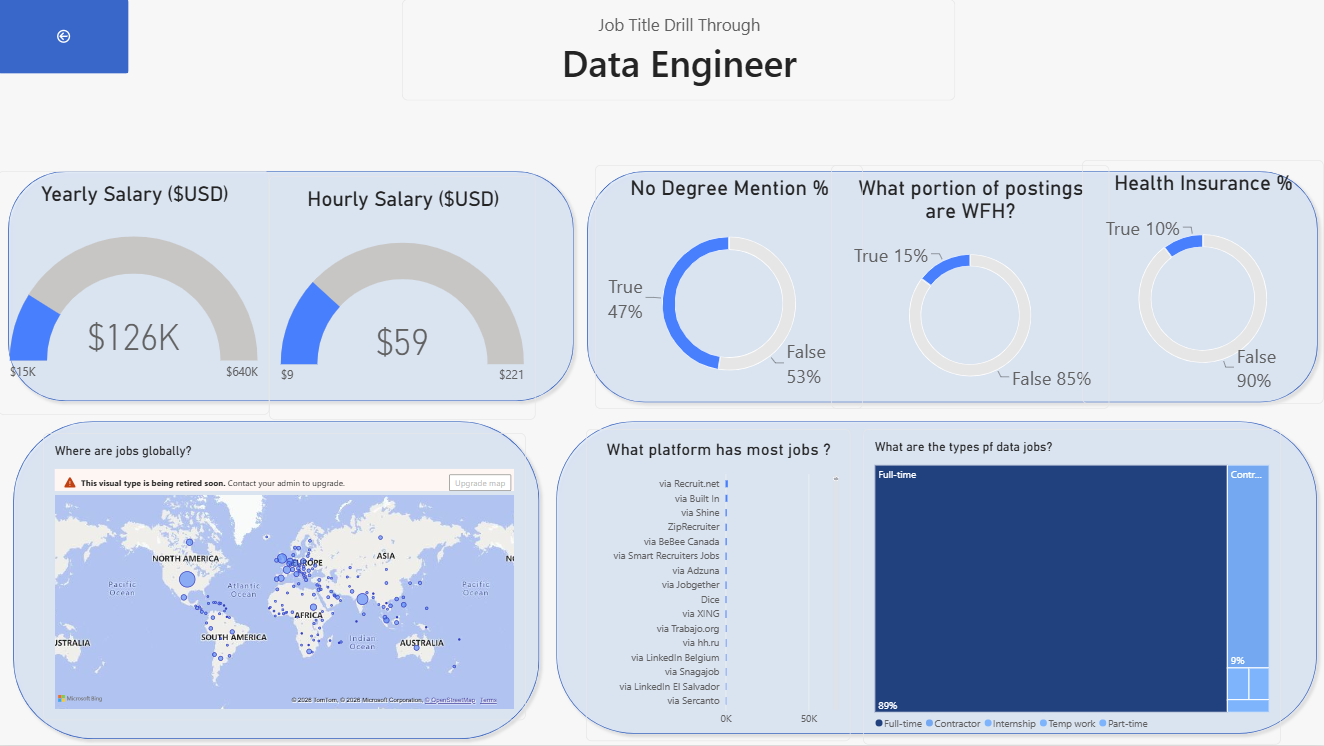

What the dashboard file says about the page in this screenshot:
{"tool":"powerbi","page":{"name":"Job Title Drill Through","canvas":[1920,1080],"ordinal":1},"visuals":[{"type":"group","id":"g1","title":"Background","box":[6.5,241,1914.3,839.4],"z":0},{"type":"shape","box":[845.1,241.1,1075.7,352.9],"z":0,"group":"g1"},{"type":"cardVisual","fields":{"Data":["Min(job_postings_flat.job_title_short)1"]},"box":[585.3,0,801.8,147.2],"z":1000},{"type":"shape","box":[800.7,602.3,1119.4,470.5],"z":1000,"group":"g1"},{"type":"actionButton","box":[0,0,189.5,108.3],"z":2000},{"type":"shape","box":[6.5,241,836.7,351],"z":2000,"group":"g1"},{"type":"gauge","title":"Yearly Salary ($USD)","fields":{"MaxValue":["Max(job_postings_flat.salary_year_avg)1"],"MinValue":["Min(job_postings_flat.salary_year_avg)"],"Y":["Median(job_postings_flat.salary_year_avg)"]},"box":[31.9,249,393,353.2],"z":3000},{"type":"shape","box":[13.8,602.3,779.8,478.1],"z":3000,"group":"g1"},{"type":"gauge","title":"Hourly Salary ($USD)","fields":{"MaxValue":["Max(job_postings_flat.salary_hour_avg)"],"MinValue":["Min(job_postings_flat.salary_hour_avg)"],"Y":["Median(job_postings_flat.salary_hour_avg)"]},"box":[424.3,249,386.3,353.2],"z":4000},{"type":"donutChart","title":"What portion of postings are WFH?","fields":{"Category":["job_postings_flat.job_work_from_home"],"Y":["CountNonNull(job_postings_flat.job_work_from_home)"]},"box":[1206.6,240.9,402.9,353.2],"z":5000},{"type":"donutChart","title":"Health Insurance %","fields":{"Category":["job_postings_flat.job_health_insurance"],"Y":["CountNonNull(job_postings_flat.job_health_insurance)"]},"box":[1570.2,233.8,349.8,353.2],"z":6000},{"type":"donutChart","title":"No Degree Mention %","fields":{"Category":["job_postings_flat.job_no_degree_mention"],"Y":["CountNonNull(job_postings_flat.job_no_degree_mention)"]},"box":[865.1,240.9,388,353.2],"z":7000},{"type":"map","title":"Where are jobs globally?","fields":{"Category":["job_postings_flat.job_country"],"Size":["CountNonNull(job_postings_flat.job_title_short)"]},"box":[65.2,628.4,699.4,415.6],"z":8000},{"type":"treemap","title":"What are the types pf data jobs?","fields":{"Group":["job_postings_flat.job_schedule_type"],"Values":["CountNonNull(job_postings_flat.job_schedule_type)"]},"box":[1252.2,622.3,605.2,457.2],"z":9000},{"type":"barChart","title":"What platform has most jobs ?","fields":{"Category":["job_postings_flat.job_via"],"Y":["CountNonNull(job_postings_flat.job_via)"]},"box":[851.9,622.3,383.2,451.5],"z":10000}]}

Visuals, with their boxes in screenshot pixels (x1, y1, x2, y2), scaled from the page's 1920x1080 canvas onto the 1324x746 screenshot:
"Background" group: (left=4, top=166, right=1323, bottom=745)
shape: (left=583, top=167, right=1323, bottom=410)
cardVisual - Min(job_postings_flat.job_title_short)1: (left=404, top=0, right=957, bottom=102)
shape: (left=552, top=416, right=1323, bottom=741)
actionButton: (left=0, top=0, right=131, bottom=75)
shape: (left=4, top=166, right=581, bottom=409)
"Yearly Salary ($USD)" gauge: (left=22, top=172, right=293, bottom=416)
shape: (left=10, top=416, right=547, bottom=745)
"Hourly Salary ($USD)" gauge: (left=293, top=172, right=559, bottom=416)
"What portion of postings are WFH?" donutChart: (left=832, top=166, right=1110, bottom=410)
"Health Insurance %" donutChart: (left=1083, top=161, right=1323, bottom=405)
"No Degree Mention %" donutChart: (left=597, top=166, right=864, bottom=410)
"Where are jobs globally?" map: (left=45, top=434, right=527, bottom=721)
"What are the types pf data jobs?" treemap: (left=863, top=430, right=1281, bottom=745)
"What platform has most jobs ?" barChart: (left=587, top=430, right=852, bottom=742)
